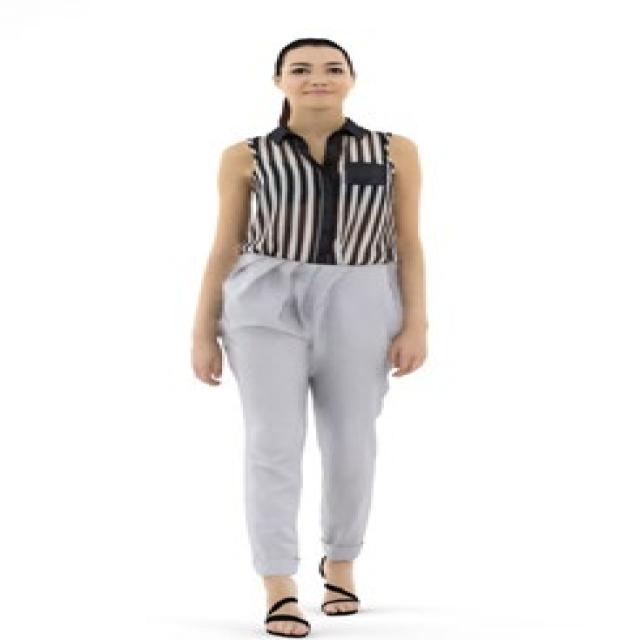standing: (186, 35, 425, 638)
